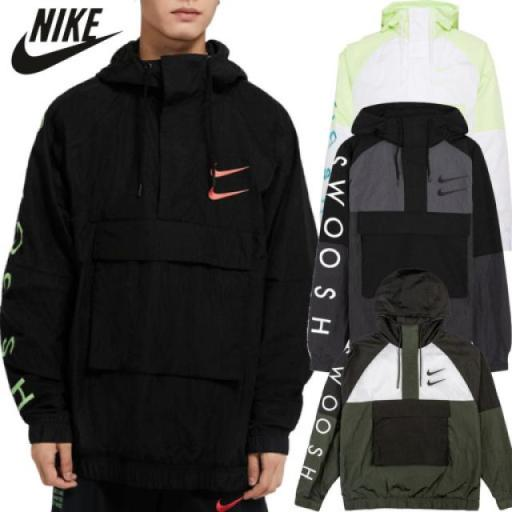Nike: (203, 183, 256, 202)
